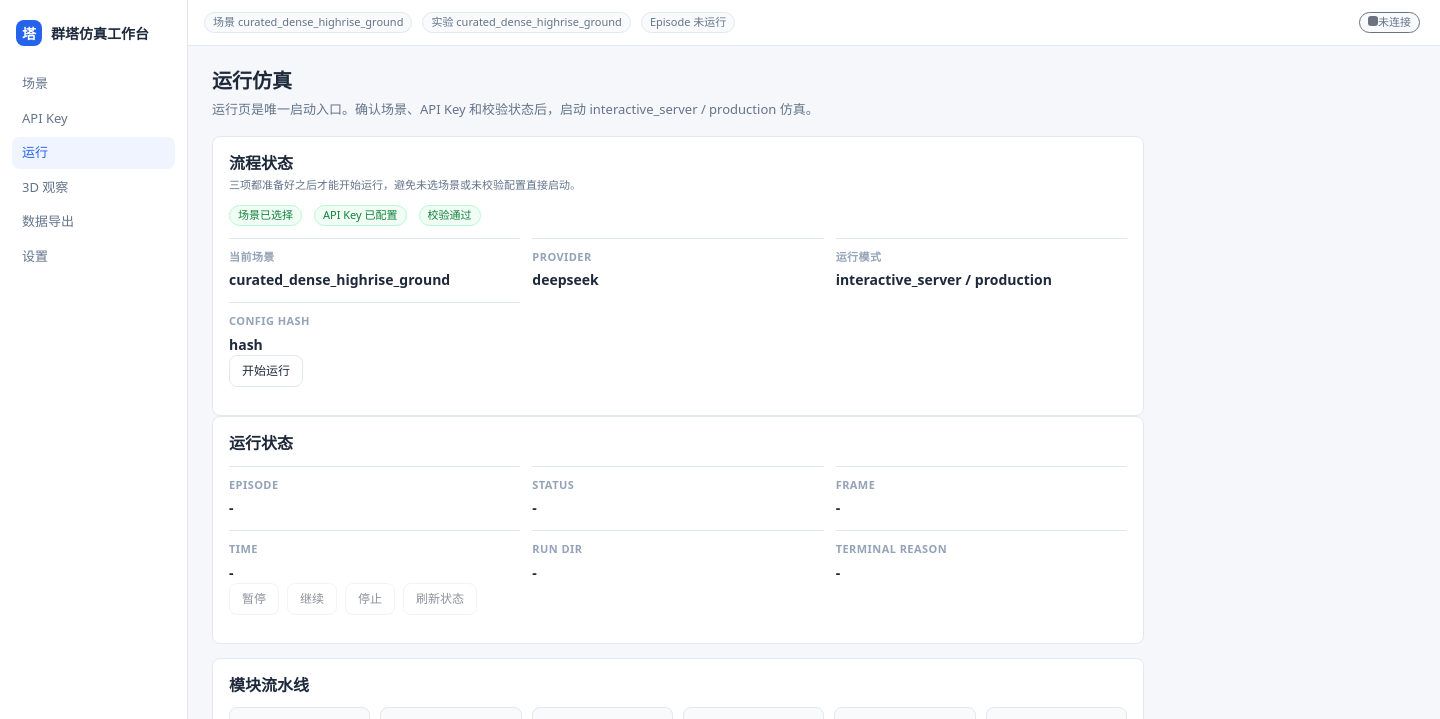
workbench run controls › includes backend error codes in failed action alerts
The width and height of the screenshot is (1440, 719).
Expected: the text "API Key 已配置" is shown, [314,205,406,226]
Click the button "开始运行" at (266, 371), box [229,355,303,387]
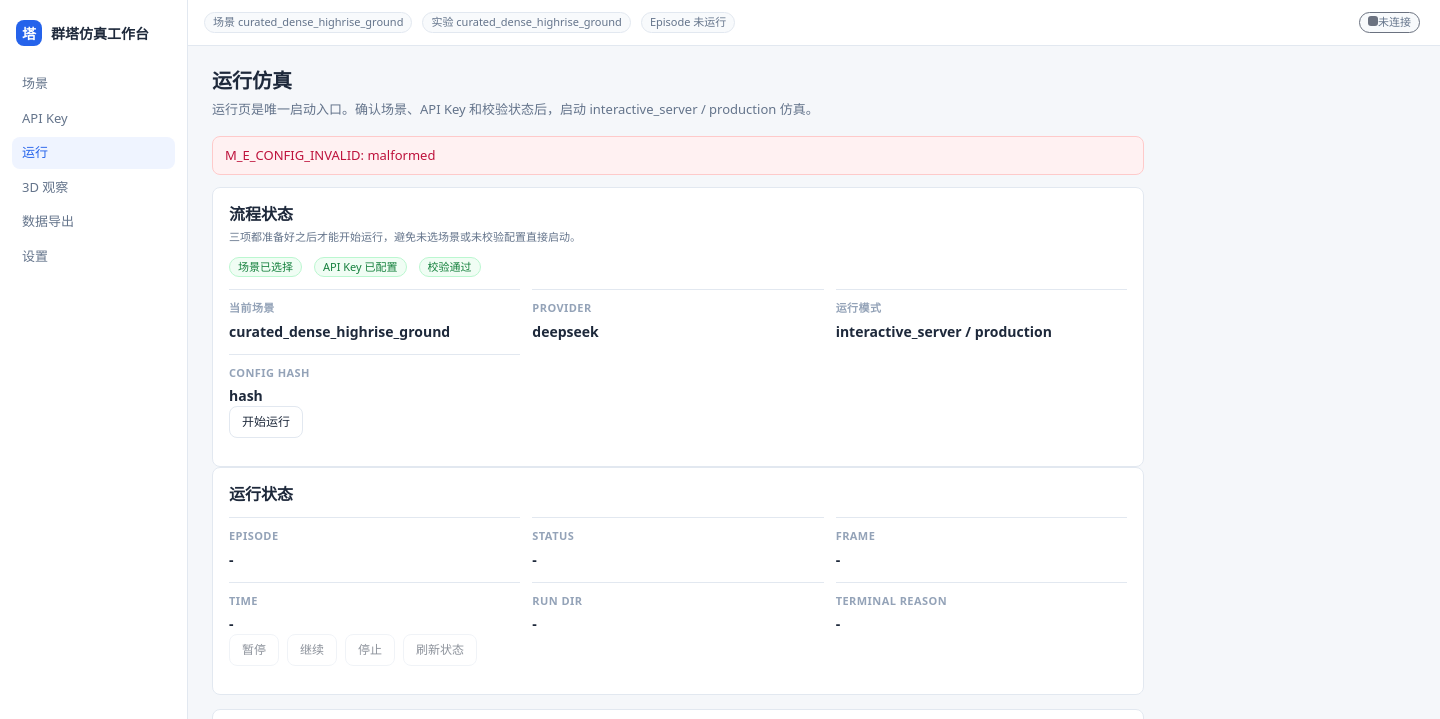
Now the message reads "M_E_CONFIG_INVALID: malformed", box [225,146,435,164]
